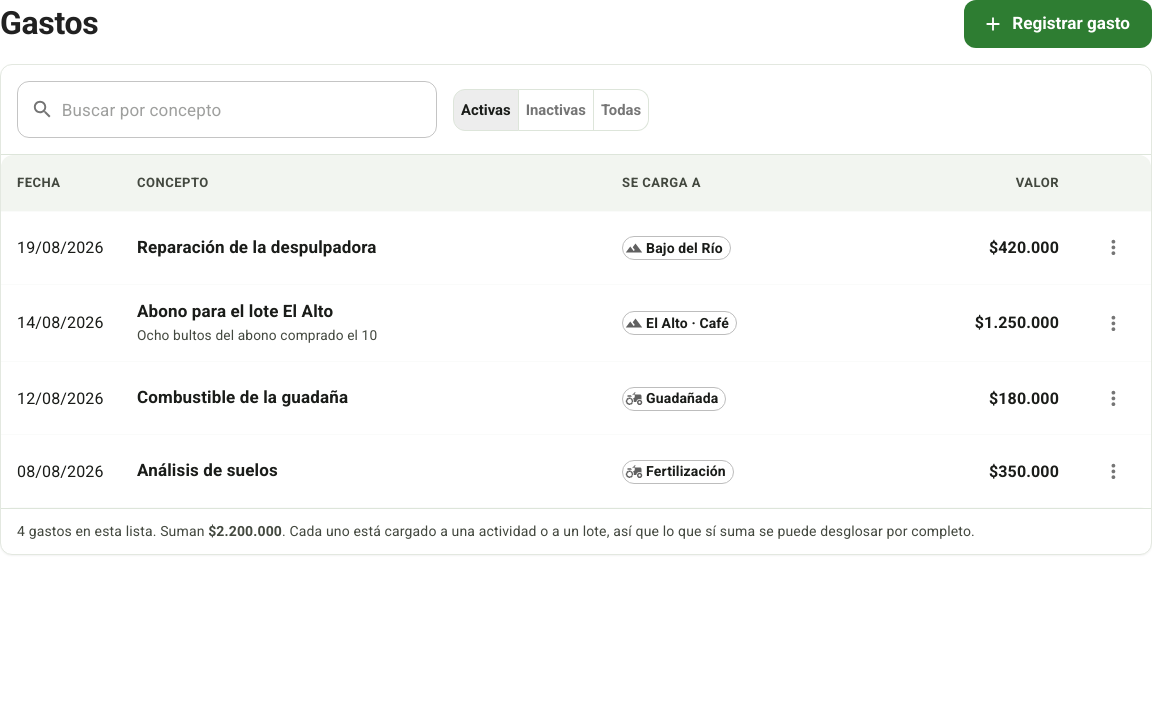
it: an expense is charged to one thing, and the form cannot say otherwise › lets a lot expense cover the whole lot, with no crop
Expected: the text "Abono para el lote El Alto" is shown, [137,301,333,321]
Click the button "Registrar gasto" at (1058, 24), box [964,0,1151,48]
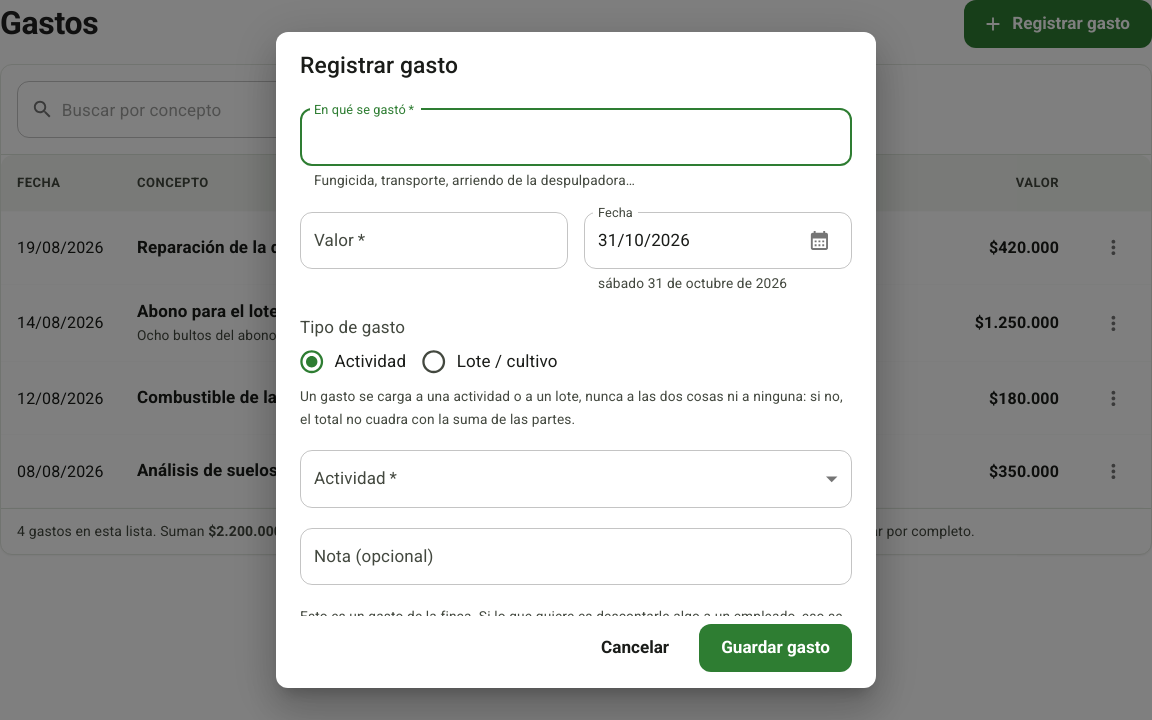
Click the radio button labelled "Lote / cultivo" at (484, 362), box [411,339,558,385]
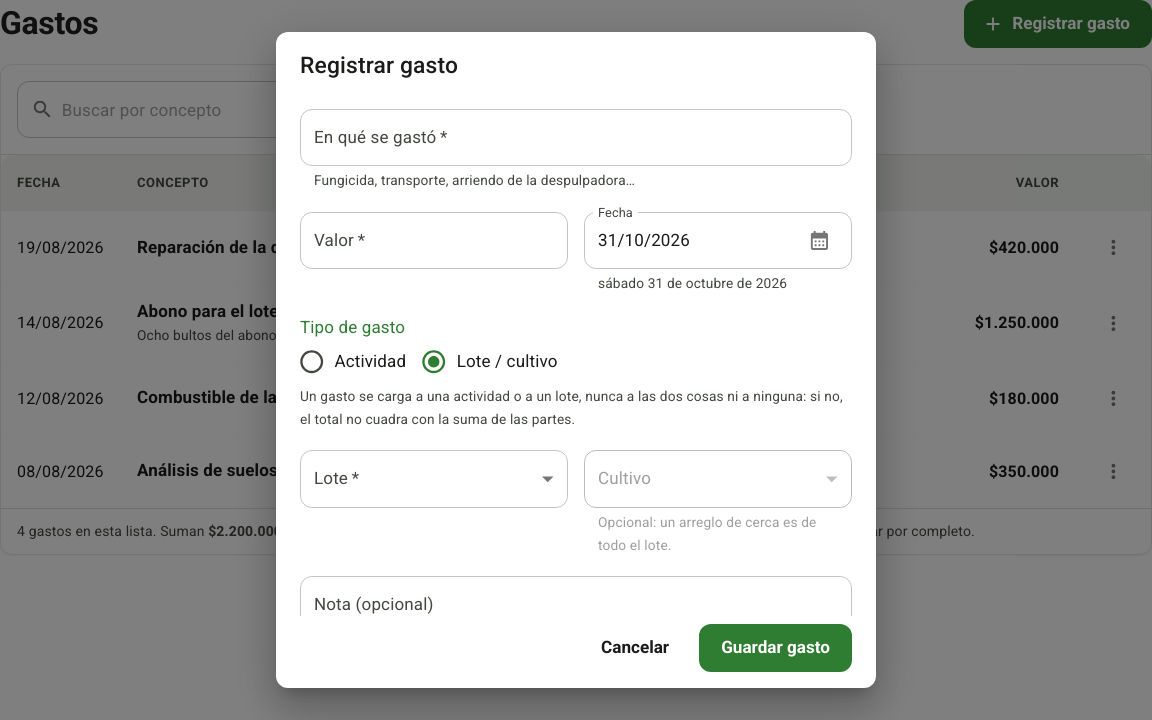
Click the 1st dropdown named "Lote" at (434, 479), box [300,450,568,508]
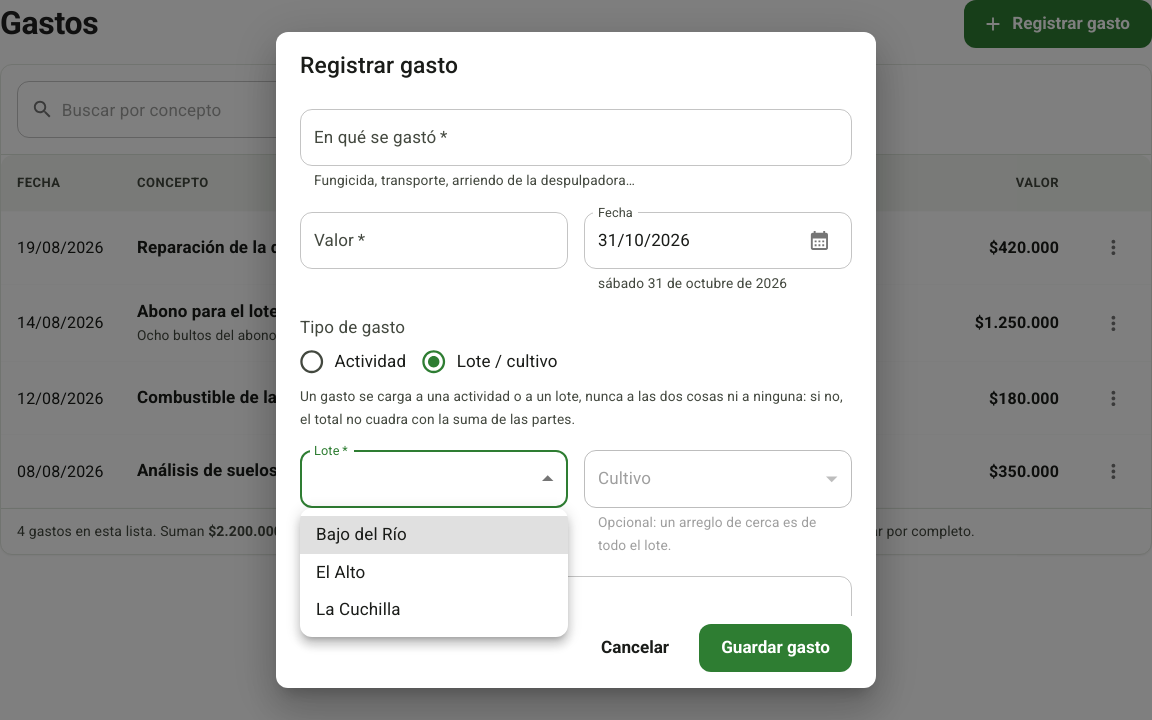
Click the option "El Alto" at (341, 572), box [316,562,365,582]
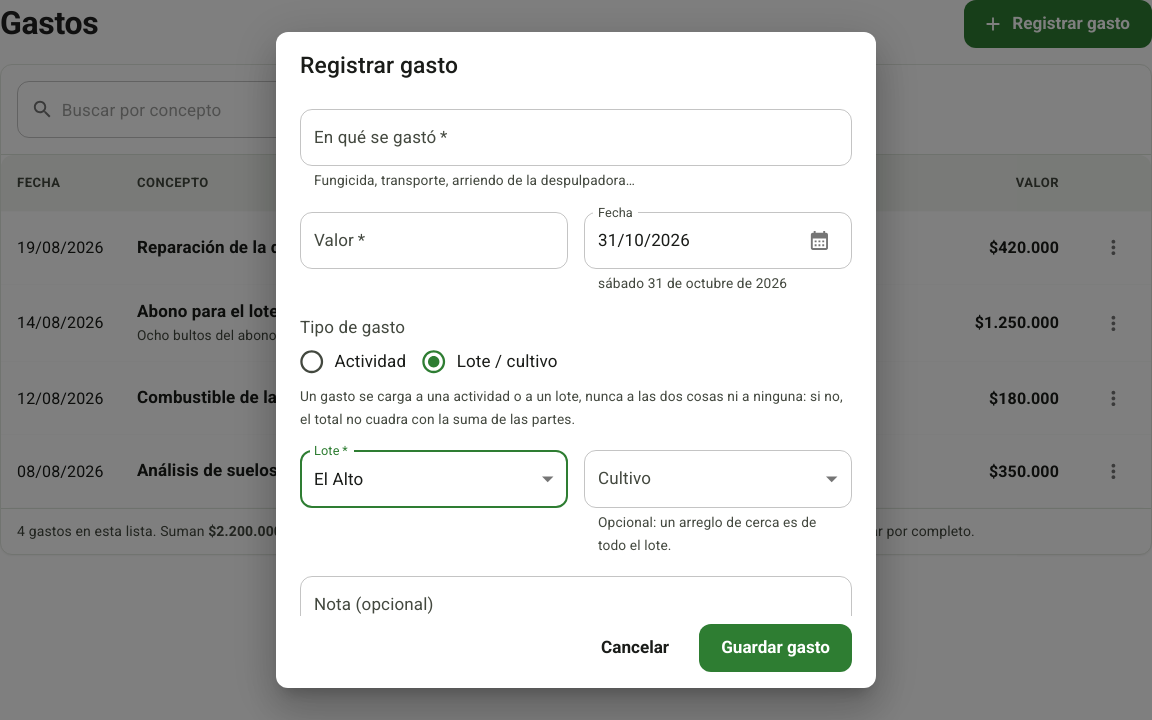
Click the dropdown named "Cultivo" at (718, 479), box [584,450,852,508]
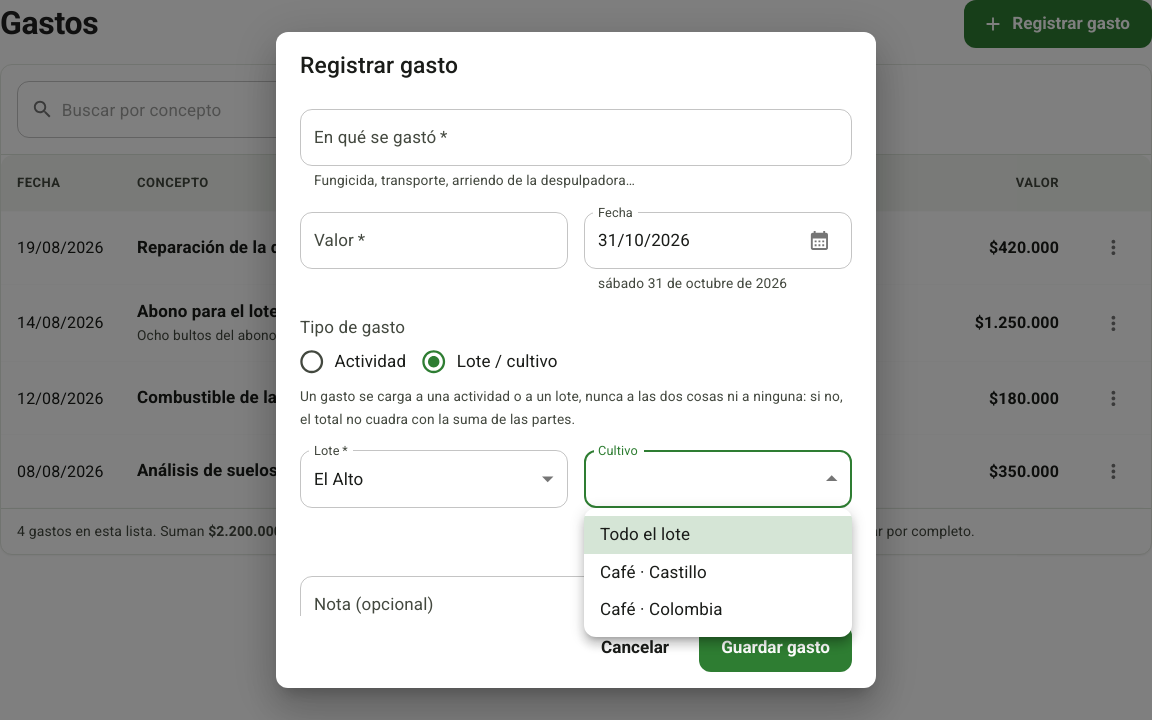
Now the option "Todo el lote" is shown, box [584,516,852,554]
